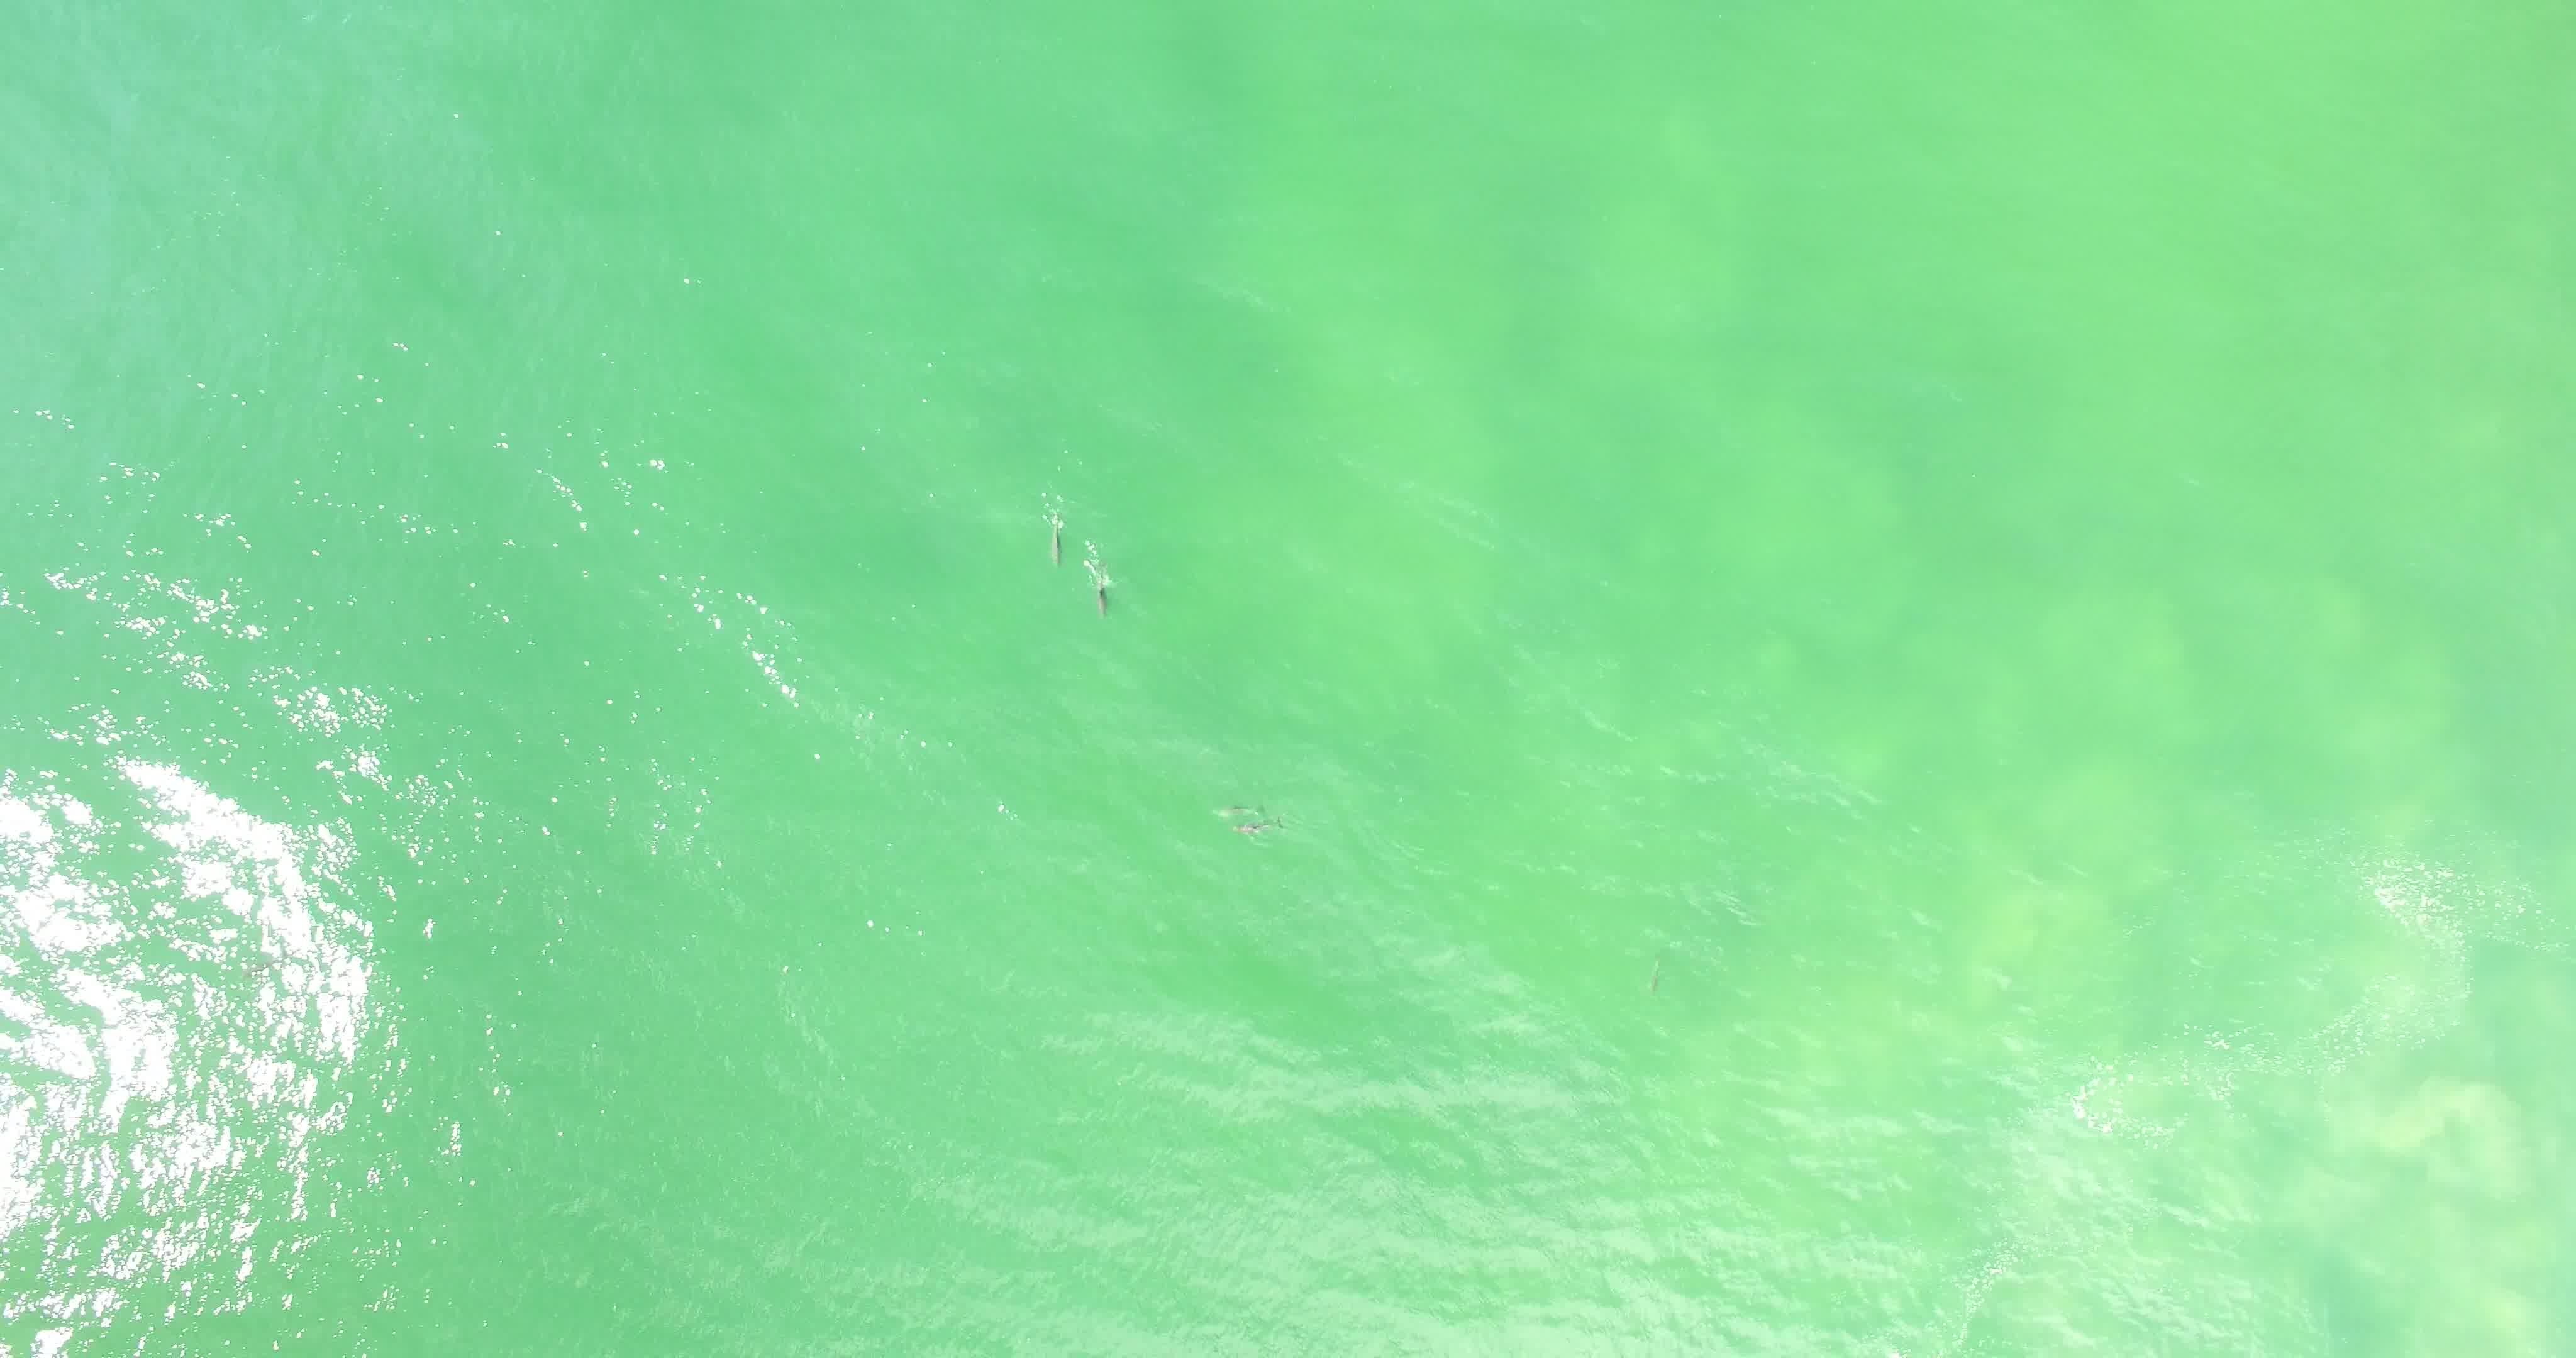dolphin: (1588, 925, 1683, 1000), (1021, 489, 1082, 578), (1070, 516, 1118, 612), (1201, 794, 1285, 842), (1189, 782, 1262, 816)
